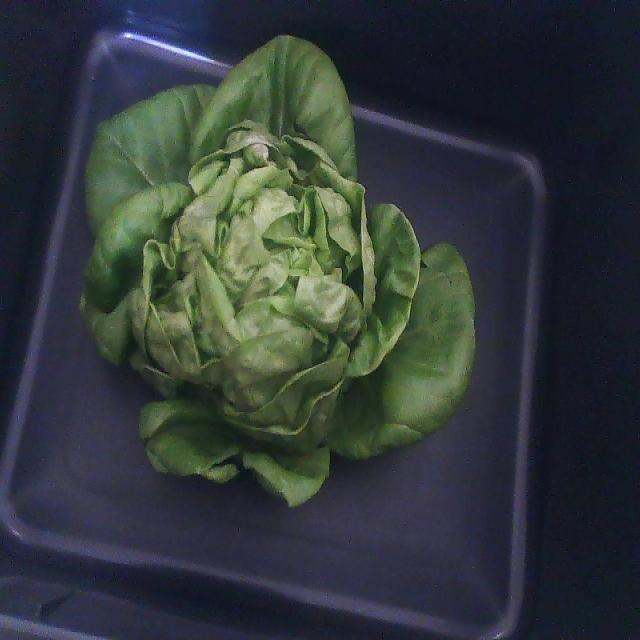Lettuce-plant: (81, 37, 474, 505)
